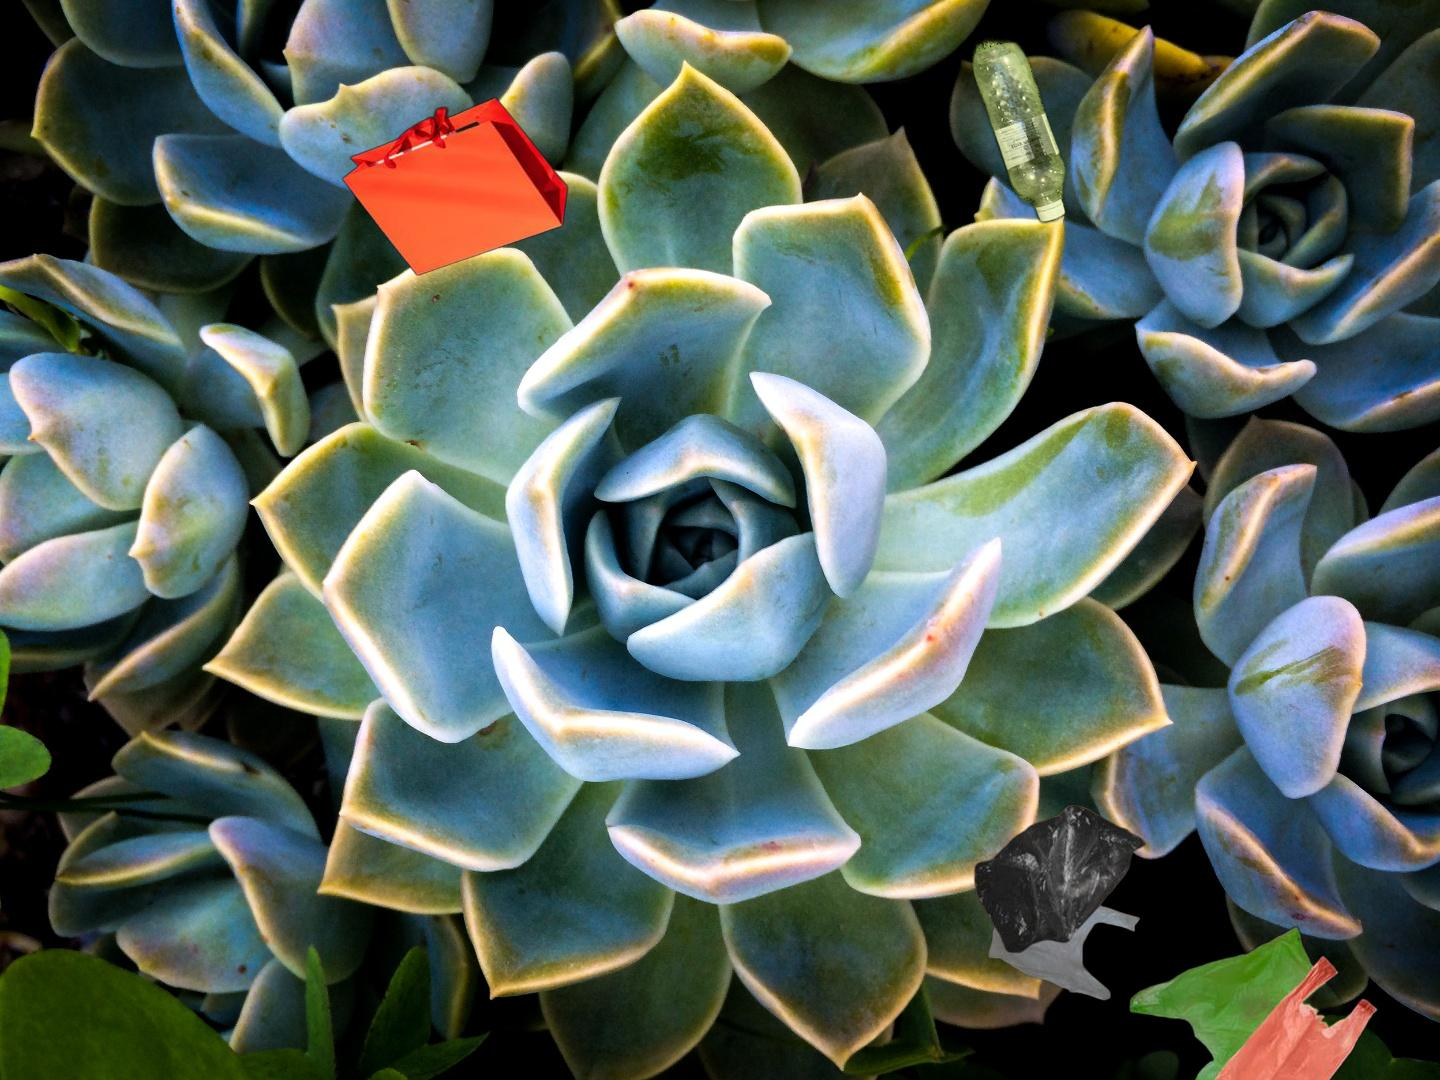paper-bag: (339, 95, 571, 279)
plastic-bag: (1128, 923, 1381, 1080), (973, 802, 1149, 1002)
plastic-bottles: (967, 33, 1071, 228)
